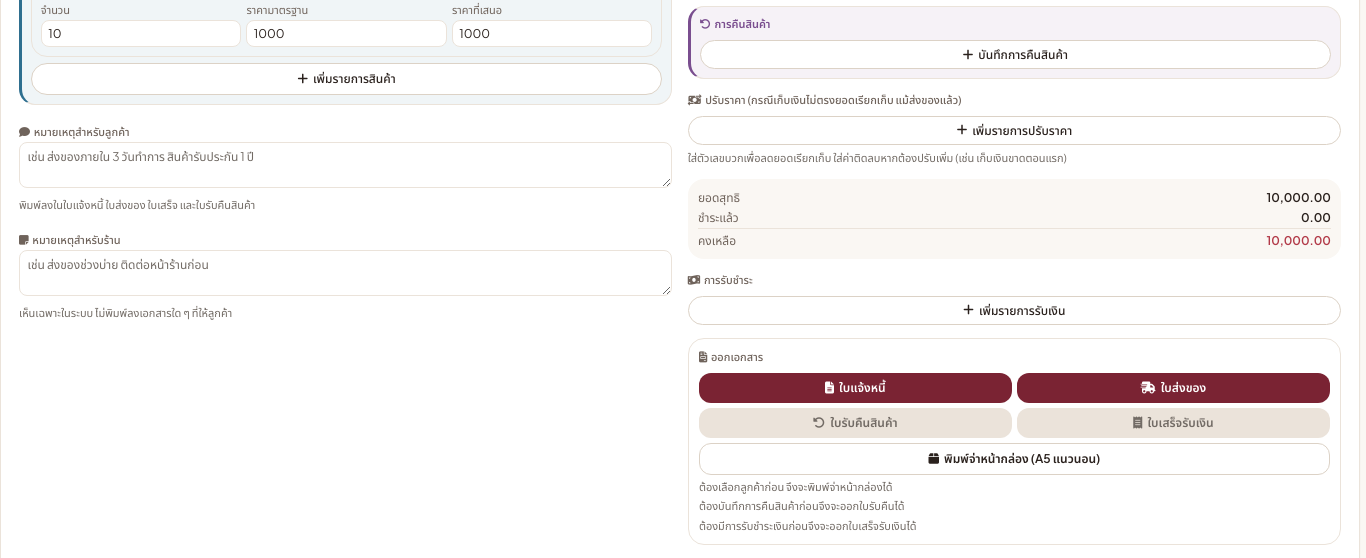
WholesaleDetail — เอกสารขายส่ง › refuses to record a delivery with no ข้อมูลการจัดส่ง
(page scrolled)
Click the button "ใบส่งของ" at point(1173, 388), box [1017,373,1330,403]
(page scrolled)
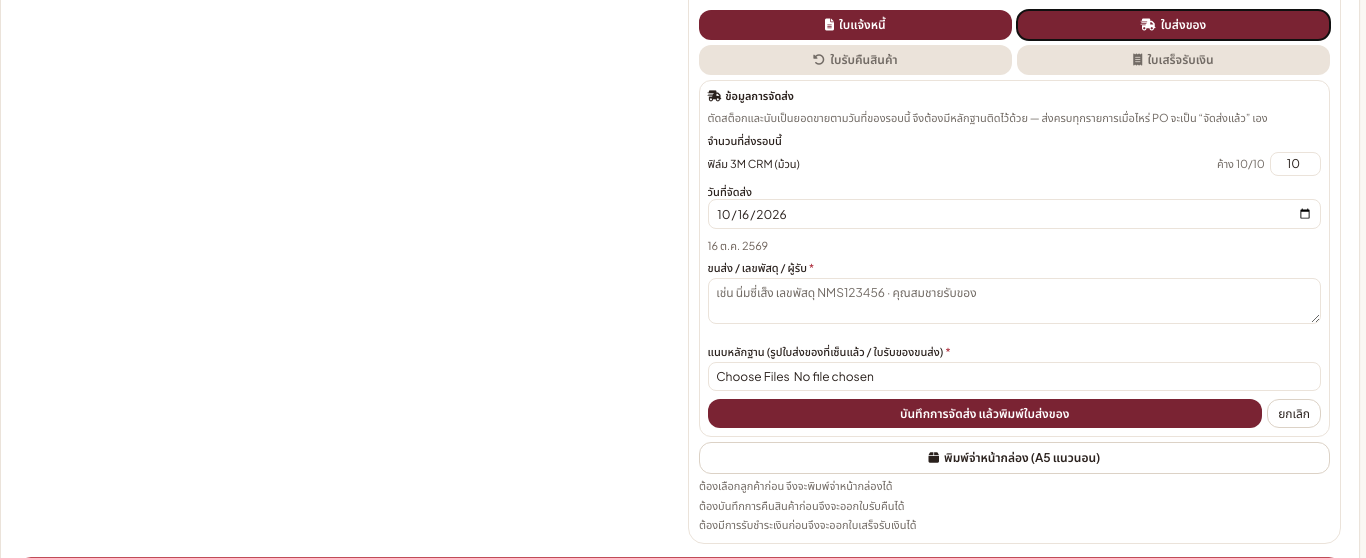
Click the button "บันทึกการจัดส่ง แล้วพิมพ์ใบส่งของ" at point(985, 414), box [708,399,1262,428]
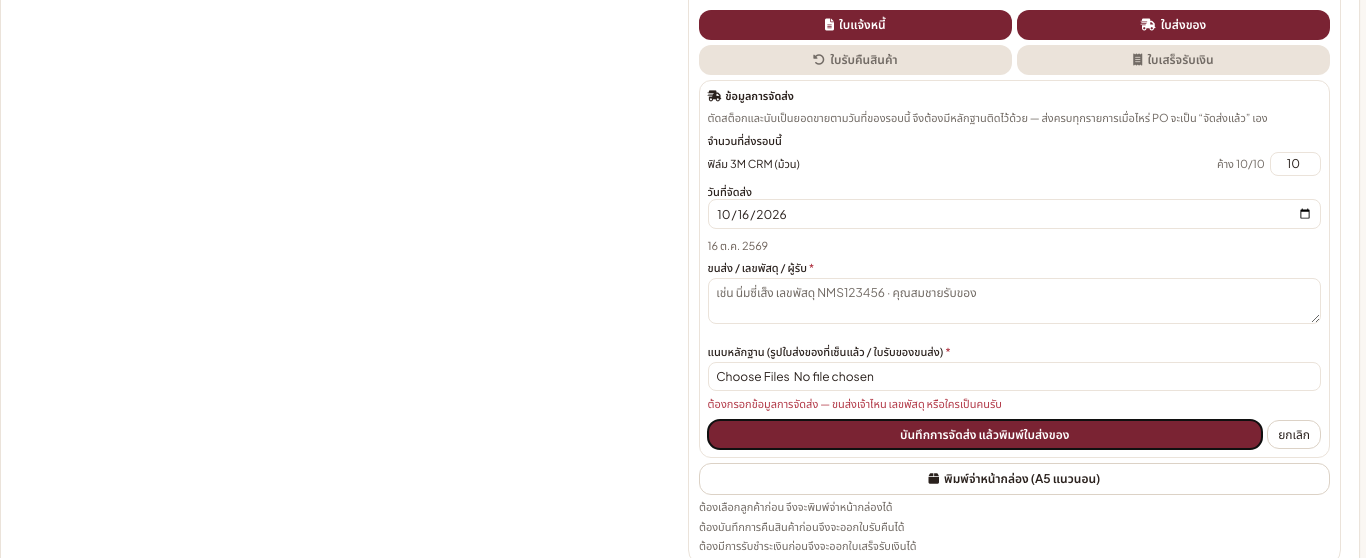
Now the message shows "ต้องกรอกข้อมูลการจัดส่ง", box [708,397,1002,410]
